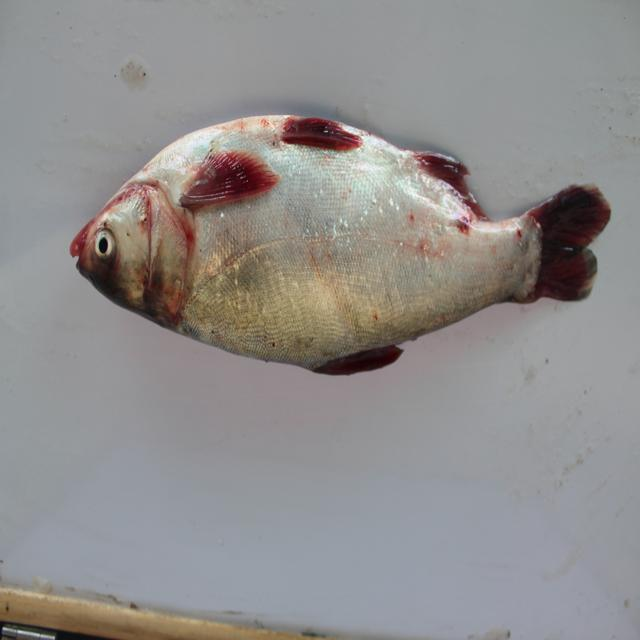SilverCarp: (79, 95, 606, 364)
